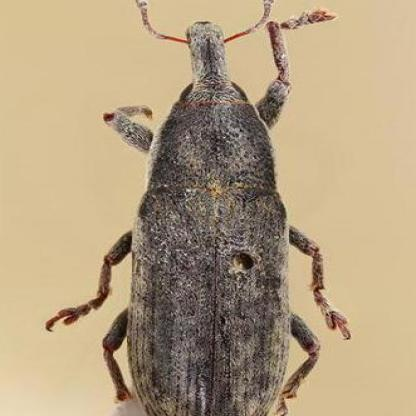rice-bug: (82, 21, 342, 416)
